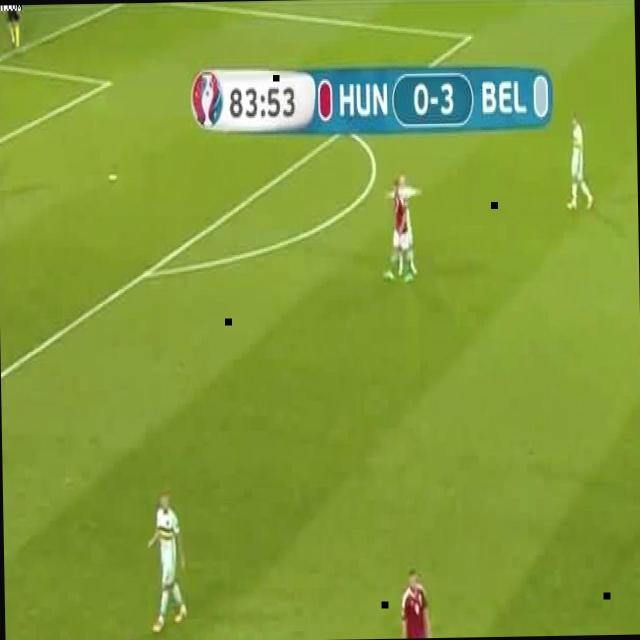player-white: (148, 492, 188, 630), (386, 170, 424, 274), (381, 180, 413, 286), (565, 116, 595, 210), (398, 566, 431, 639)
